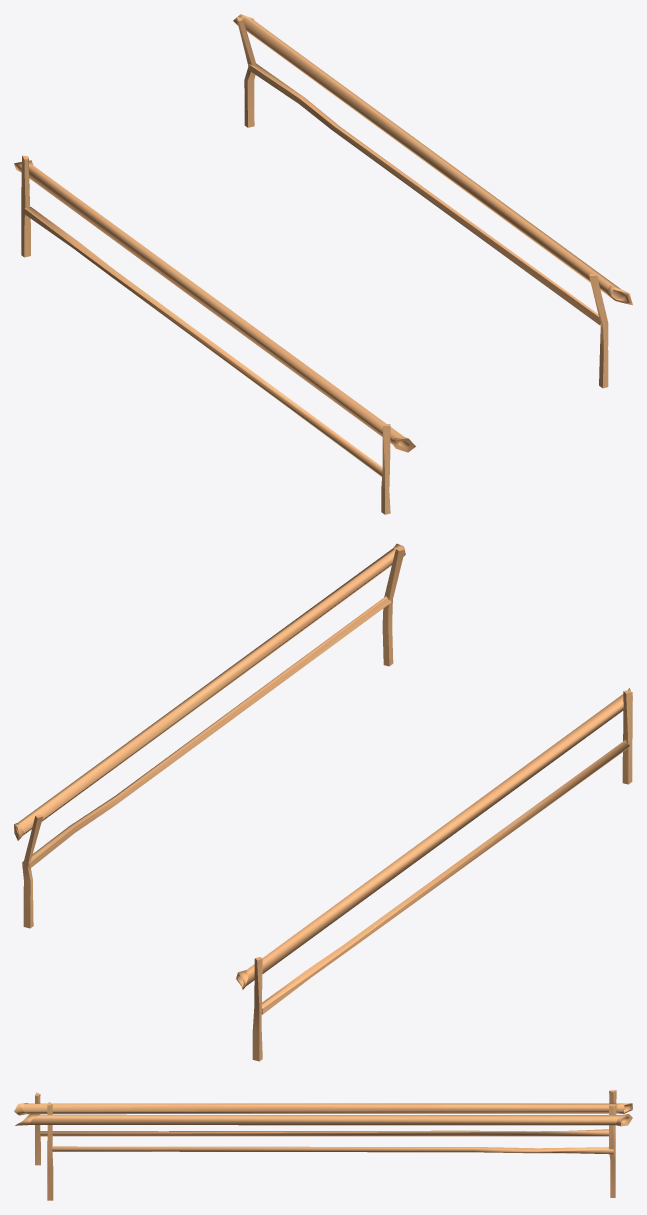
File: Penyangga Tanah.fbx
The picture shows the model from 3 angles, top to bottom: view 1: azimuth 30°, elevation 25°; view 2: azimuth 150°, elevation 25°; view 3: azimuth 270°, elevation 25°; orthographic projection. The views are drawn at different scales.
Visible parts, largest first — view 1: Penyangga_Tanah; view 2: Penyangga_Tanah; view 3: Penyangga_Tanah.
Part boxes in pixels (x1,y1,x2,y2): Penyangga_Tanah: [14, 14, 632, 514]; Penyangga_Tanah: [14, 543, 632, 1061]; Penyangga_Tanah: [14, 1090, 632, 1200].
Size of the model in its own units: 246 by 184 by 691.
1 material, 1 textured.
